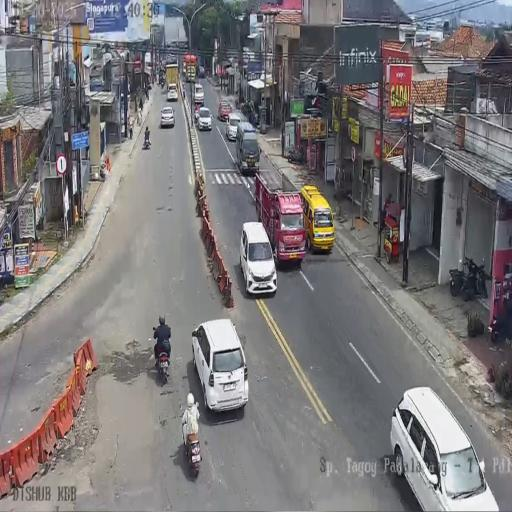3: (182, 61, 187, 79)
car: (392, 387, 502, 509), (191, 320, 248, 414), (238, 221, 278, 296), (300, 185, 335, 253), (226, 110, 246, 142), (198, 106, 212, 131), (160, 106, 175, 128), (218, 100, 231, 121), (120, 84, 132, 104), (194, 84, 204, 106), (167, 83, 178, 102), (198, 66, 205, 78), (186, 70, 192, 83)
truck: (182, 411, 202, 476), (461, 254, 487, 301), (490, 288, 512, 342), (153, 330, 171, 384), (449, 262, 466, 296), (286, 146, 305, 165), (143, 131, 151, 149), (194, 105, 200, 124), (145, 85, 149, 101)
